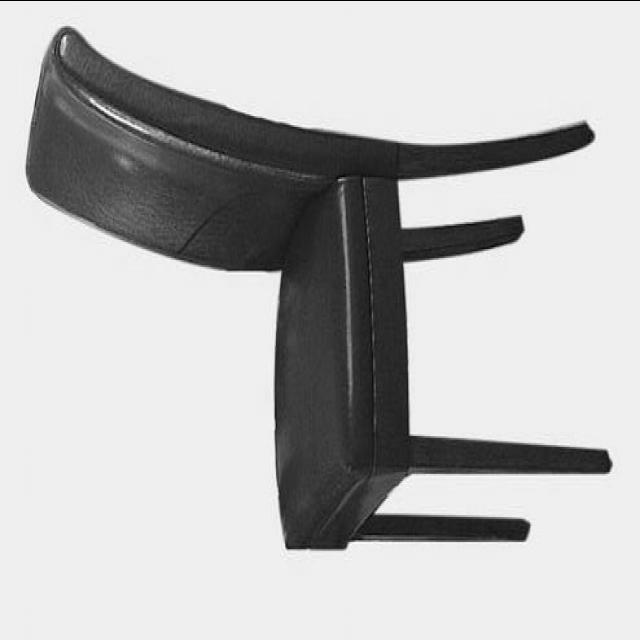chair: (20, 25, 612, 551)
